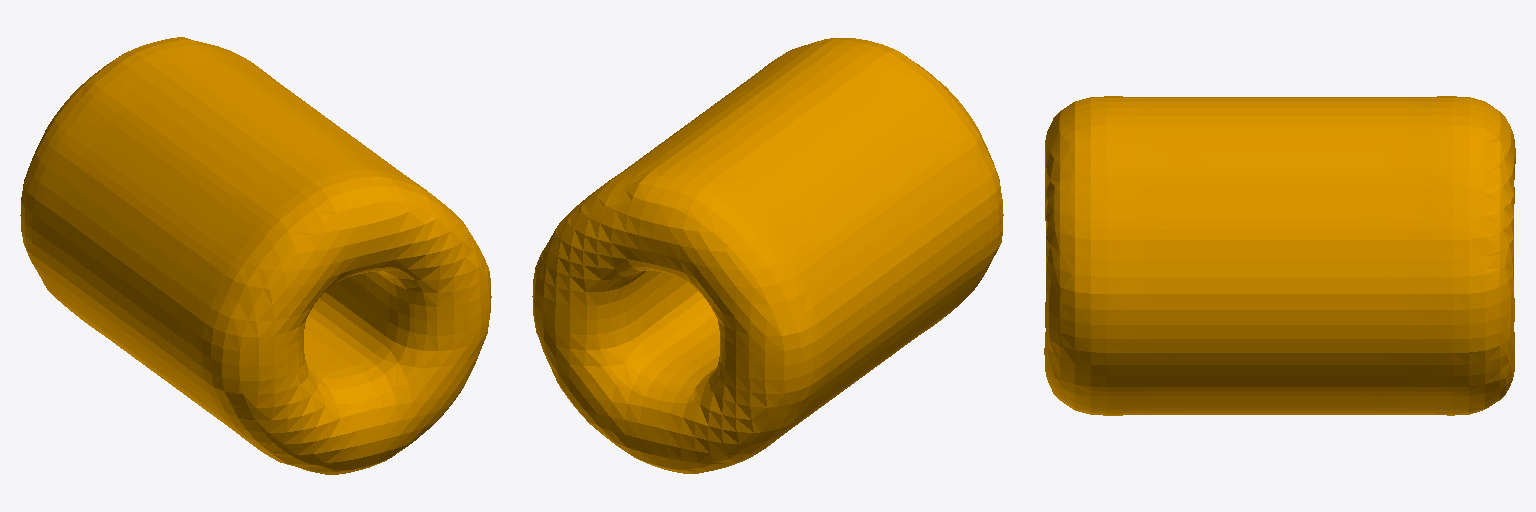
URDF robot description (G05_3):
<?xml version="1.0"?>
<robot name="G05_3">
  <link name="base_link">
    <inertial>
      <mass value="0.06159" />
      <origin xyz="0 0 0" />
      <inertia  ixx="0.0002" ixy="0.0"  ixz="0.0"  iyy="0.0002"  iyz="0.0" izz="0.0002" />
    </inertial>
    <visual>
      <geometry>
        <mesh filename="../../../meshes/egad/train/G05_3.obj" />
      </geometry>
    </visual>
    <collision>
      <geometry>
        <mesh filename="../../../meshes/egad/train/G05_3.obj" />
      </geometry>
    </collision>
  </link>
</robot>

--- What the picture shows (computed from the rendered views, not written in the file) ---
The picture shows the robot from 3 angles, left to right: view 1: azimuth 30°, elevation 25°; view 2: azimuth 150°, elevation 25°; view 3: azimuth 270°, elevation 25°; orthographic projection.
Model G05_3 with 1 links and 0 joints (none), rooted at base_link, posed every joint at zero.
Links seen in each view (by area): view 1: base_link; view 2: base_link; view 3: base_link.
Boxes of the visible links, x1=… form: base_link: x1=20, y1=37, x2=491, y2=474; base_link: x1=532, y1=38, x2=1003, y2=473; base_link: x1=1044, y1=96, x2=1515, y2=415.
Bounding box of the posed robot: 0.0521 × 0.075 × 0.0521 m (x, y, z).
1 mesh visuals loaded from 1 distinct referenced files (1 OBJ).